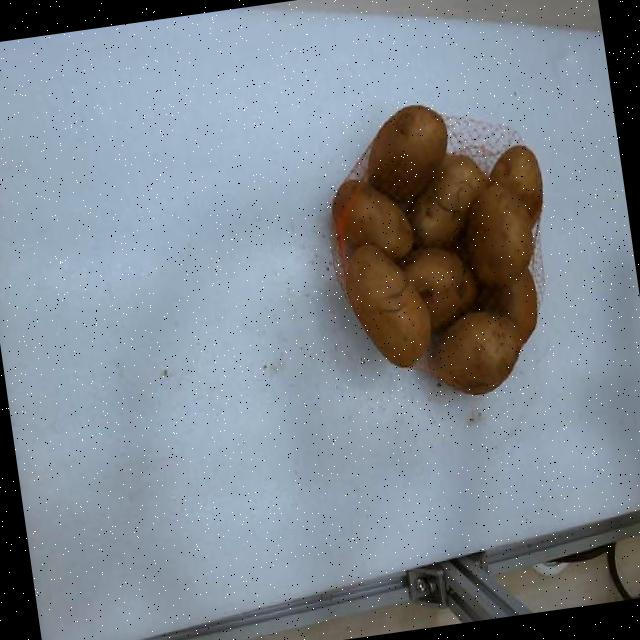potato: (346, 244, 434, 366), (427, 311, 521, 395), (368, 106, 447, 204), (463, 185, 533, 287), (411, 154, 486, 246), (407, 248, 477, 328), (345, 184, 413, 258), (490, 146, 543, 222), (484, 271, 538, 343)
